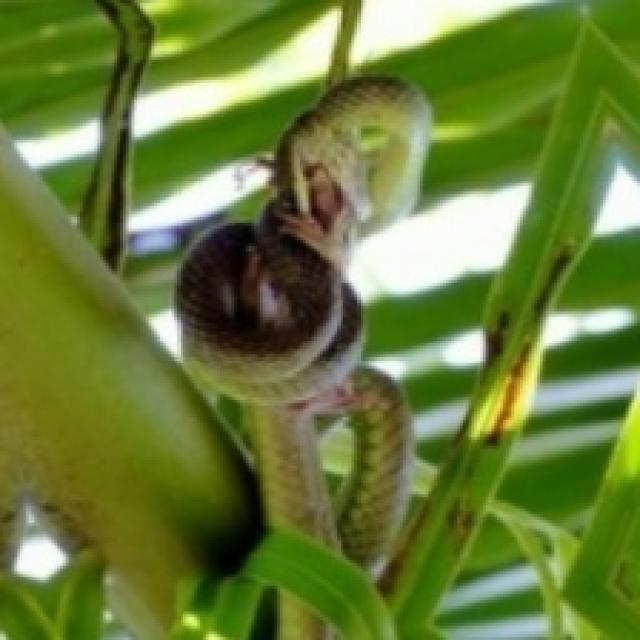paradise tree snake: (177, 77, 429, 566), (278, 590, 326, 639)
